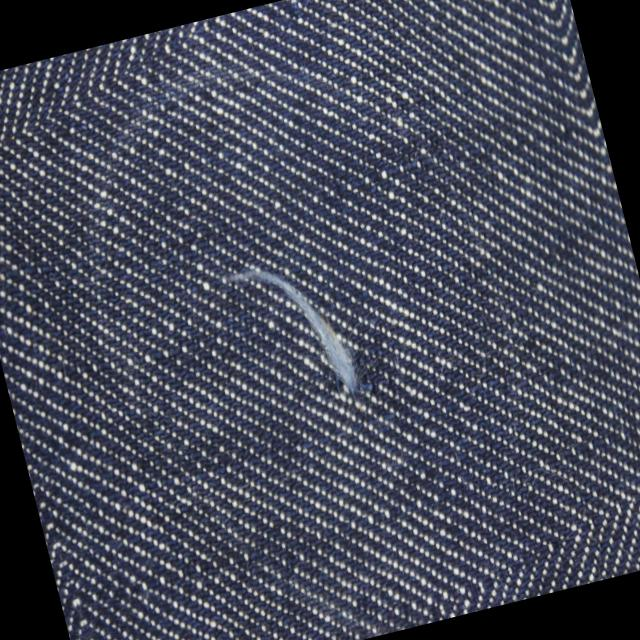selvet: (232, 217, 387, 449)
